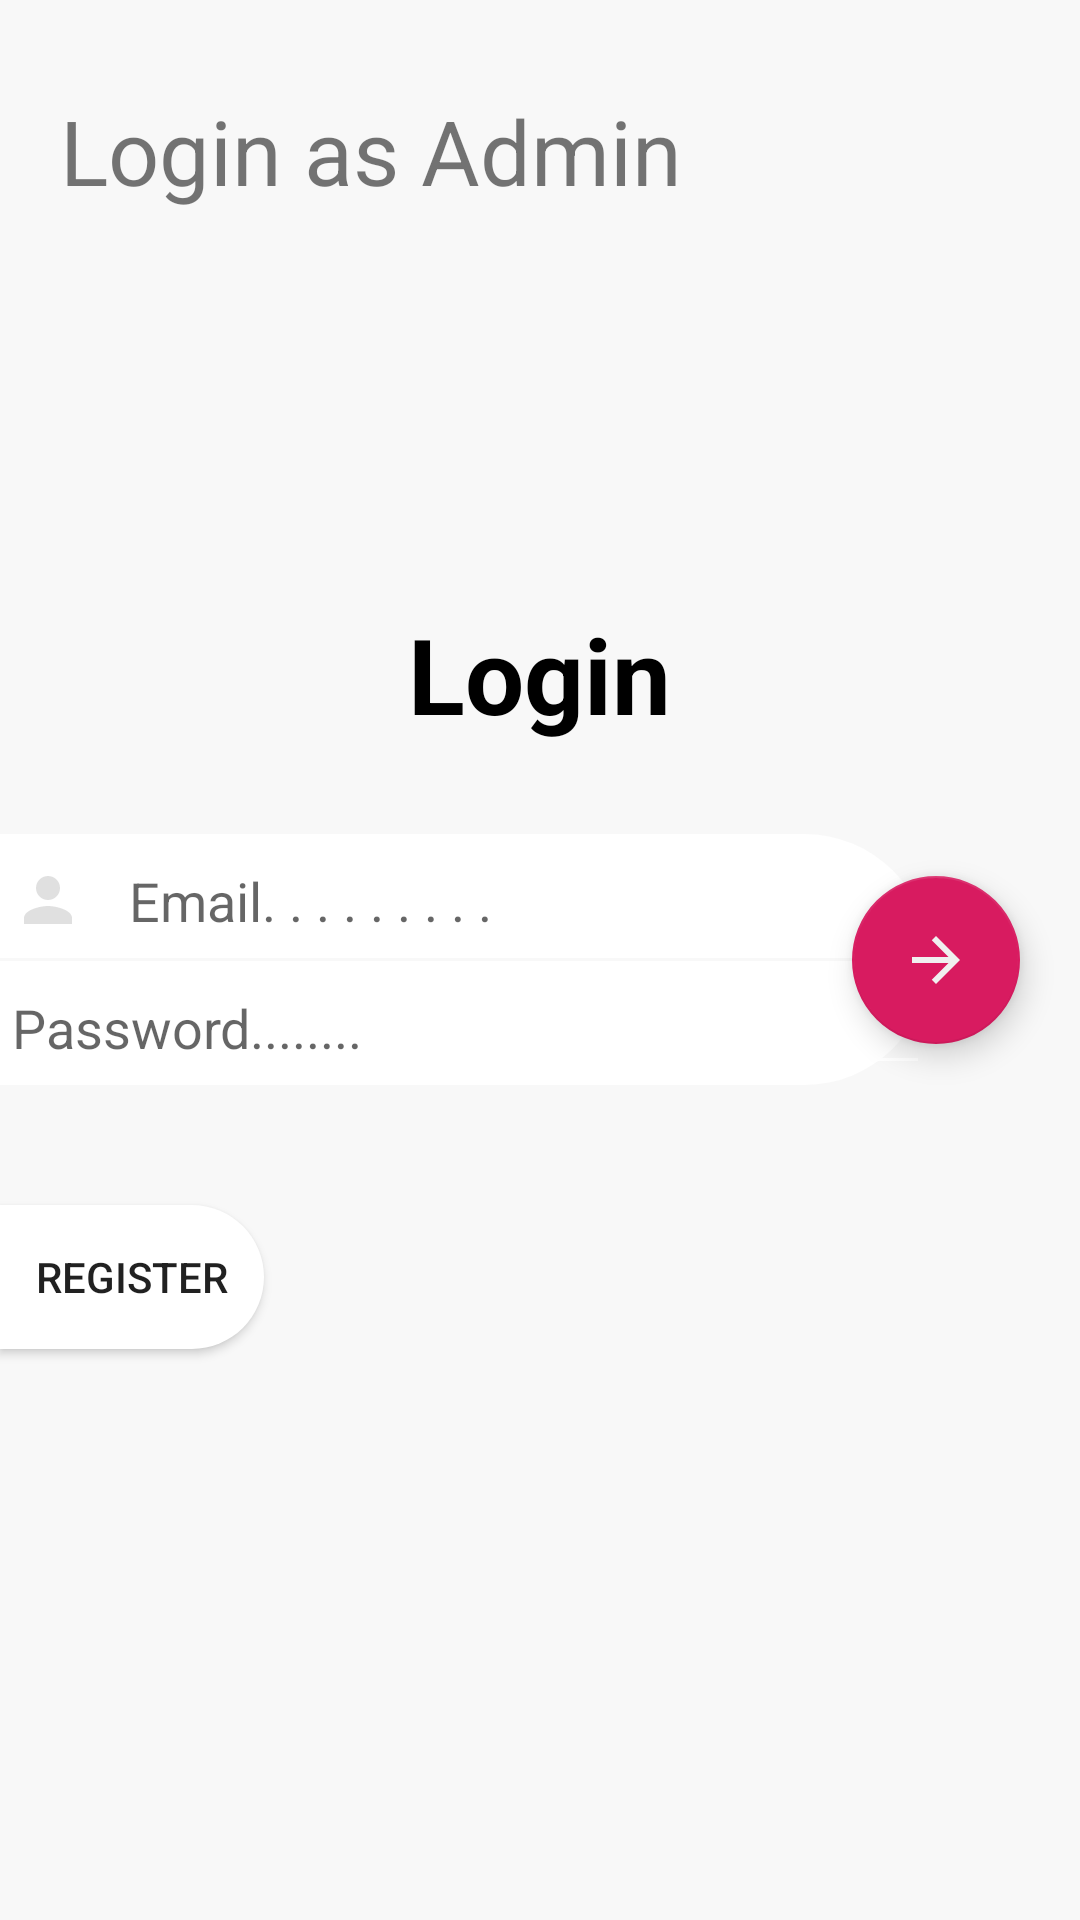

Icon bounding boxes for this 1080x1920 phone screenshot, format {"x1": x1, "y1": y1, "x2": x2, "y2": y2}:
arrow forward: {"x1": 852, "y1": 876, "x2": 1020, "y2": 1044}
